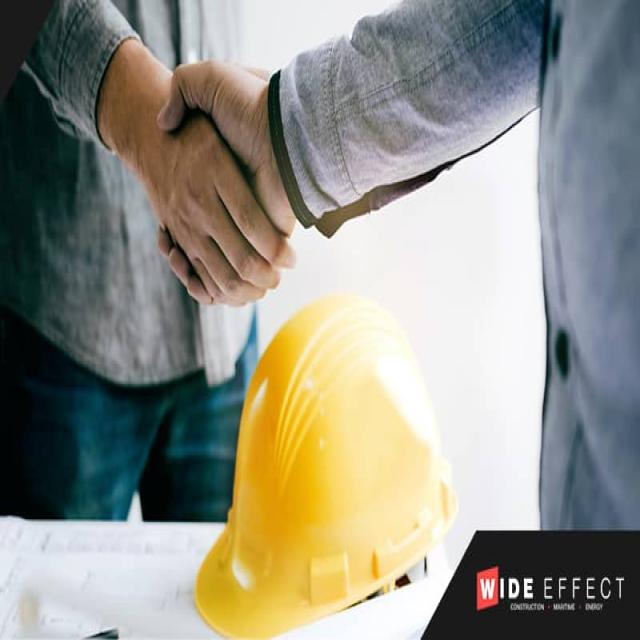helmet: (214, 284, 416, 595)
